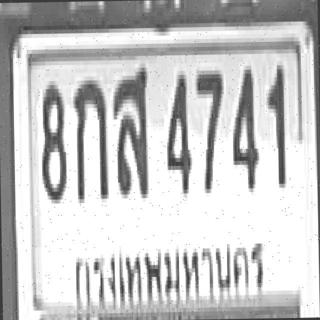A01: (72, 76, 107, 199)
A40: (111, 61, 147, 192)
N01: (265, 59, 285, 186)
N04: (230, 62, 258, 188), (164, 68, 190, 192)
N07: (195, 64, 222, 187)
N08: (39, 81, 65, 200)
P04: (70, 229, 272, 316)
